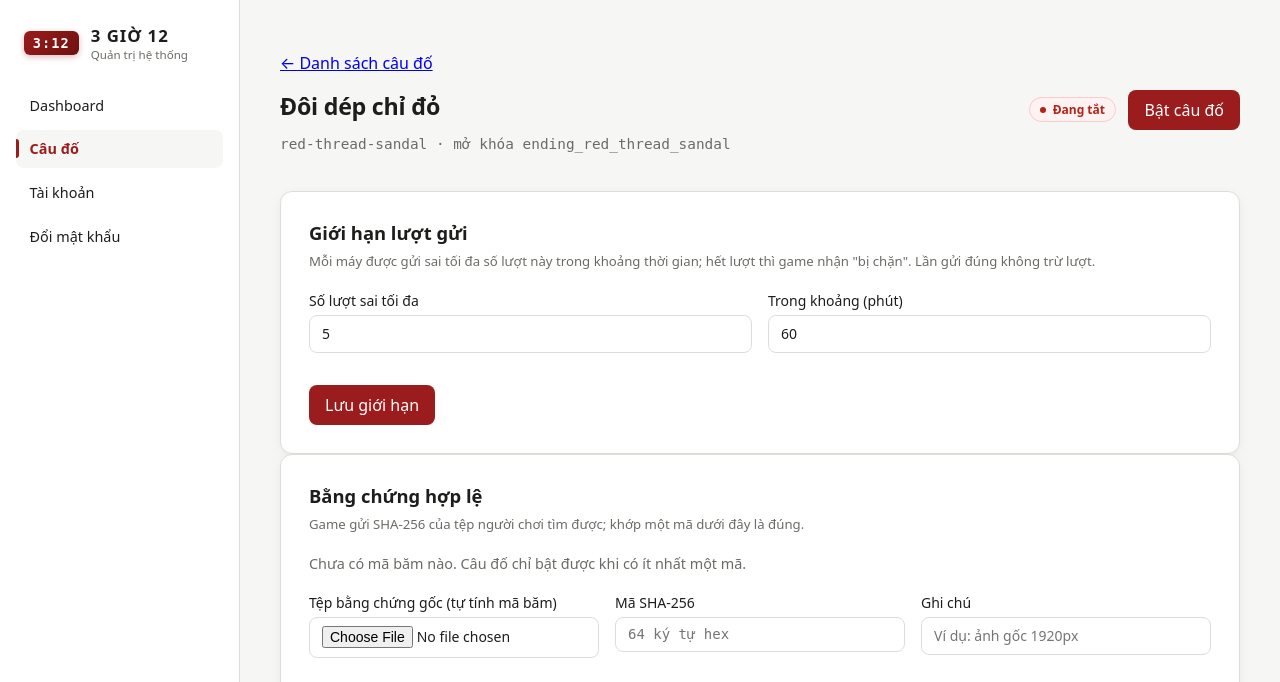
Test: PuzzleDetailPage: shows the server's reason when enabling without a hash
Click the button "Bật câu đố" at (1184, 110), box [1128, 90, 1240, 130]
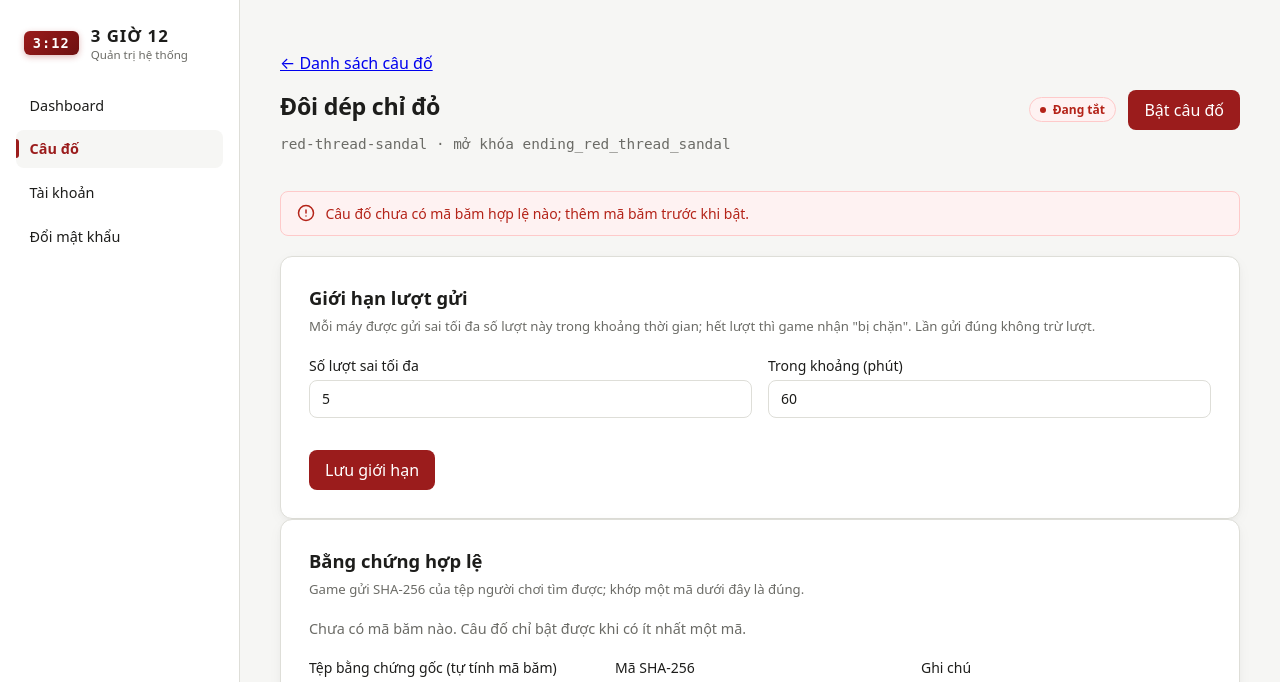
Check: the message shows "thêm mã băm trước khi bật", box [325, 204, 749, 223]
